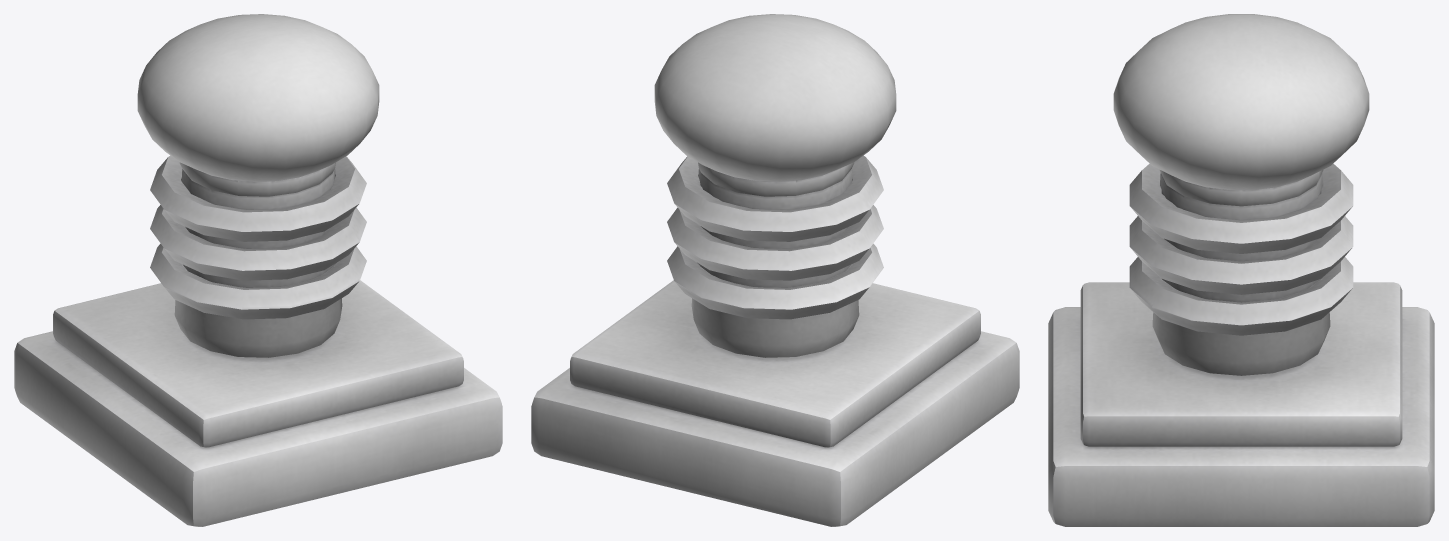
Rendered from Bollard.fbx.
The picture shows the model from 3 angles, left to right: view 1: azimuth 30°, elevation 25°; view 2: azimuth 150°, elevation 25°; view 3: azimuth 270°, elevation 25°; orthographic projection. The views are drawn at different scales.
Visible parts, largest first — view 1: Bollard; view 2: Bollard; view 3: Bollard.
Boxes of the visible parts, bbox=[...] form: Bollard: bbox=[14, 14, 502, 526]; Bollard: bbox=[531, 14, 1019, 526]; Bollard: bbox=[1048, 14, 1434, 526].
Bounding box in the file's own units: 0.6 × 0.72 × 0.6.
